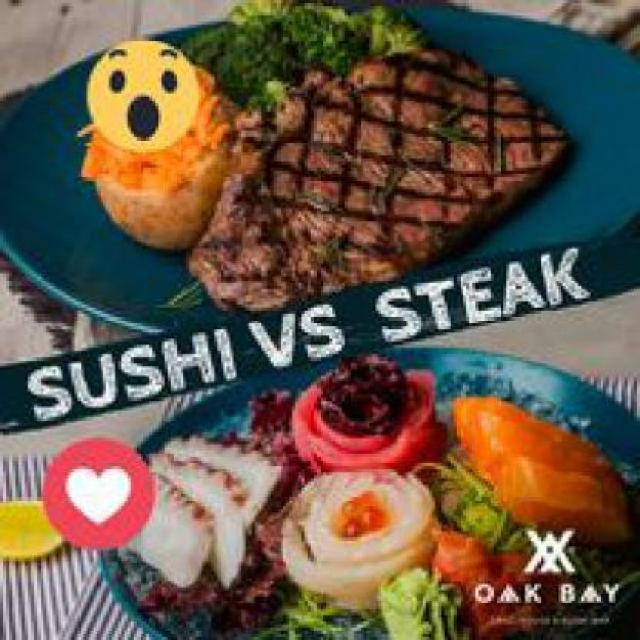steak: (214, 52, 544, 283)
sushi: (121, 375, 624, 634)
